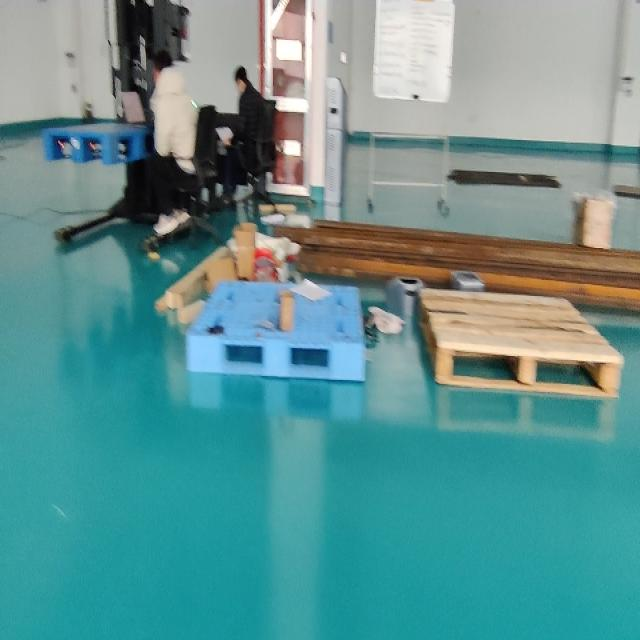euro: (420, 288, 622, 397)
